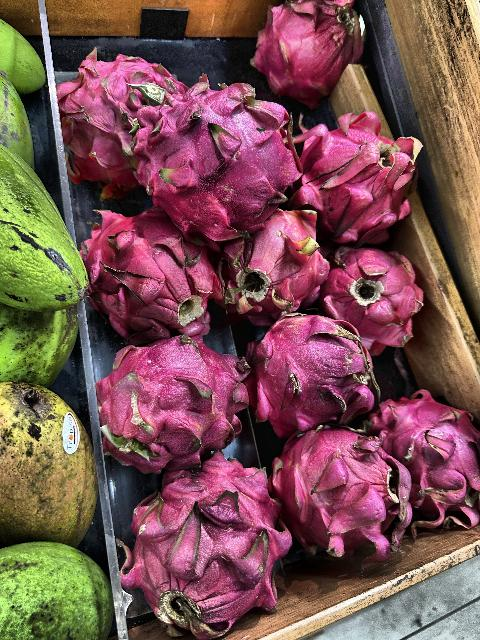buah-naga-matang: (115, 454, 279, 630), (128, 84, 302, 232), (90, 325, 248, 457), (274, 418, 400, 572), (291, 106, 423, 238), (83, 211, 219, 331), (234, 314, 376, 424), (374, 375, 480, 521), (66, 52, 186, 172), (252, 0, 386, 102), (218, 210, 336, 310), (318, 242, 424, 346)
